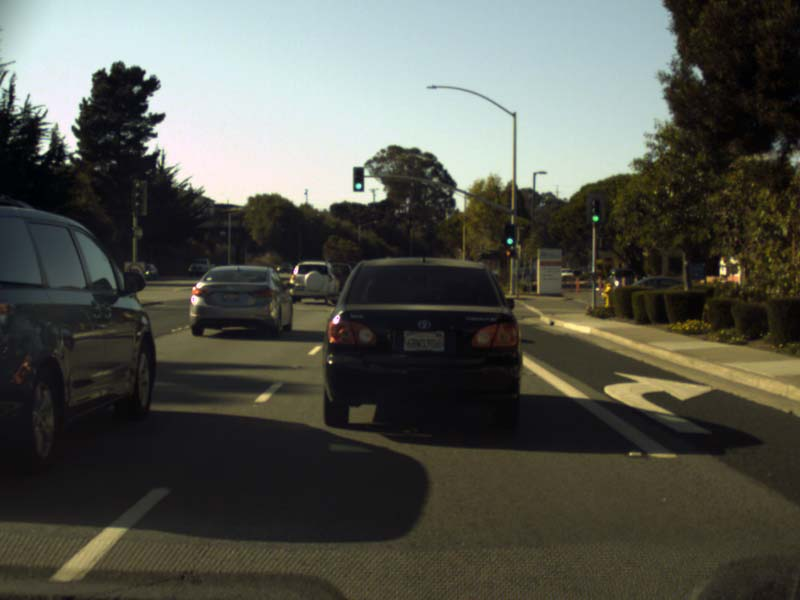Green: (353, 167, 363, 191), (504, 224, 514, 247), (591, 199, 599, 222)
